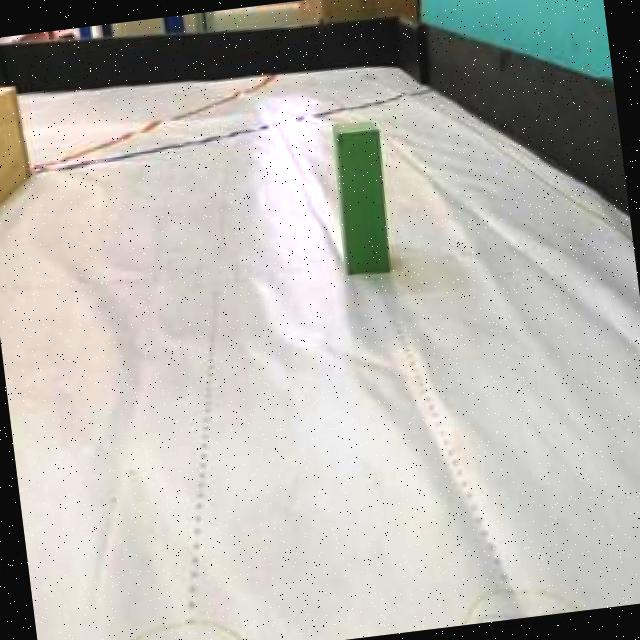greenbox: (326, 113, 396, 278)
